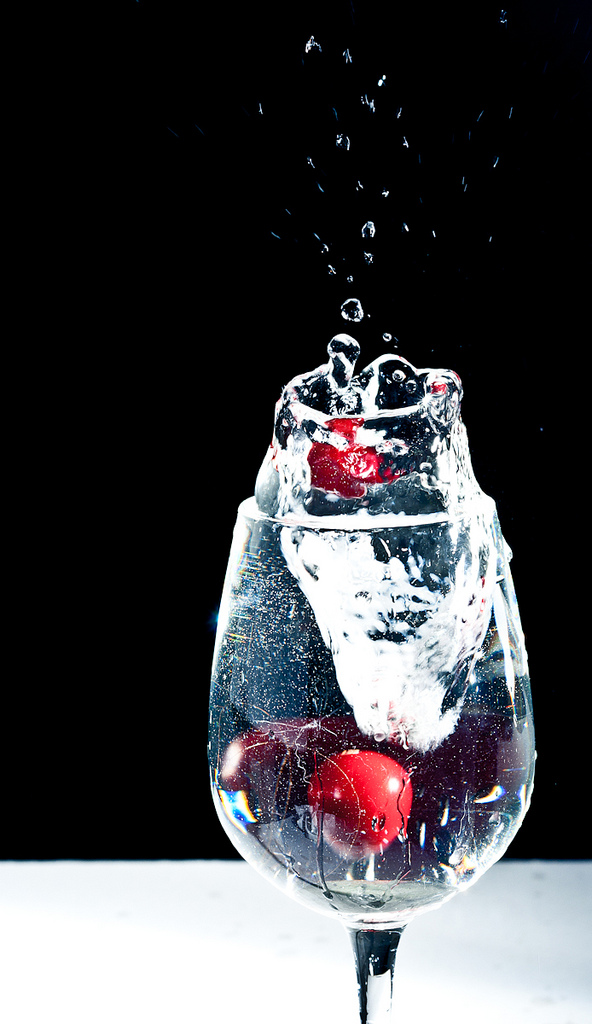glass of water: (198, 331, 547, 1020)
